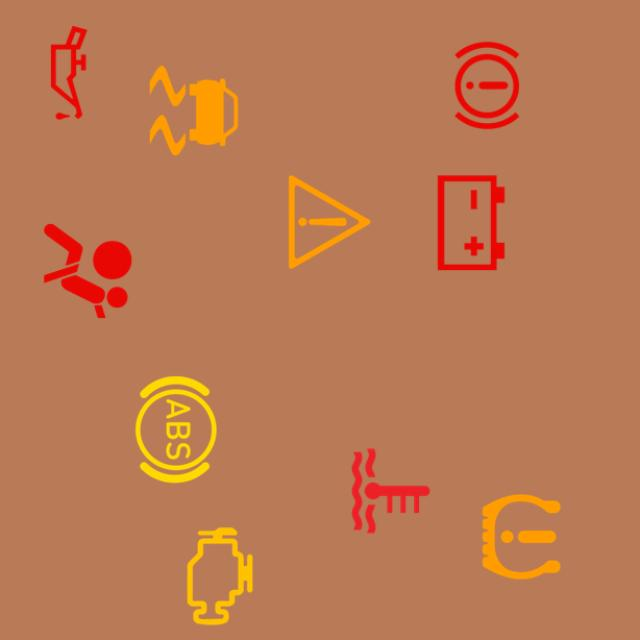Anti Lock Braking System: (118, 371, 234, 488)
Braking System Issue: (429, 27, 545, 144)
Charging System Issue: (413, 165, 529, 281)
Check Engine: (162, 518, 278, 635)
Electronic Stability Problem -ESP-: (136, 52, 252, 169)
Engine Overheating Warning Light: (333, 433, 449, 549)
Low Engine Oil Warning Light: (11, 15, 127, 131)
Low Tire Pressure Warning Light: (463, 479, 579, 595)
Master warning light: (271, 164, 388, 280)
SRS-Airbag: (29, 213, 146, 329)
